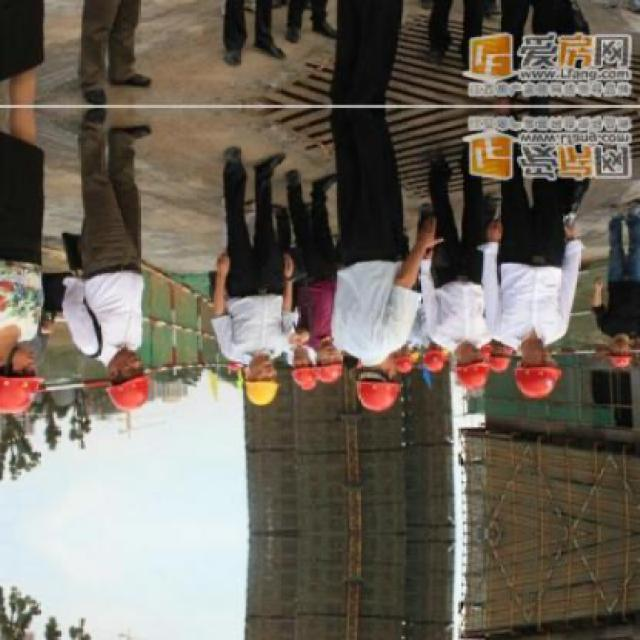con casco: (322, 338, 417, 422), (0, 327, 68, 418), (84, 348, 168, 420), (514, 339, 571, 404), (243, 345, 294, 414), (453, 321, 499, 391)
